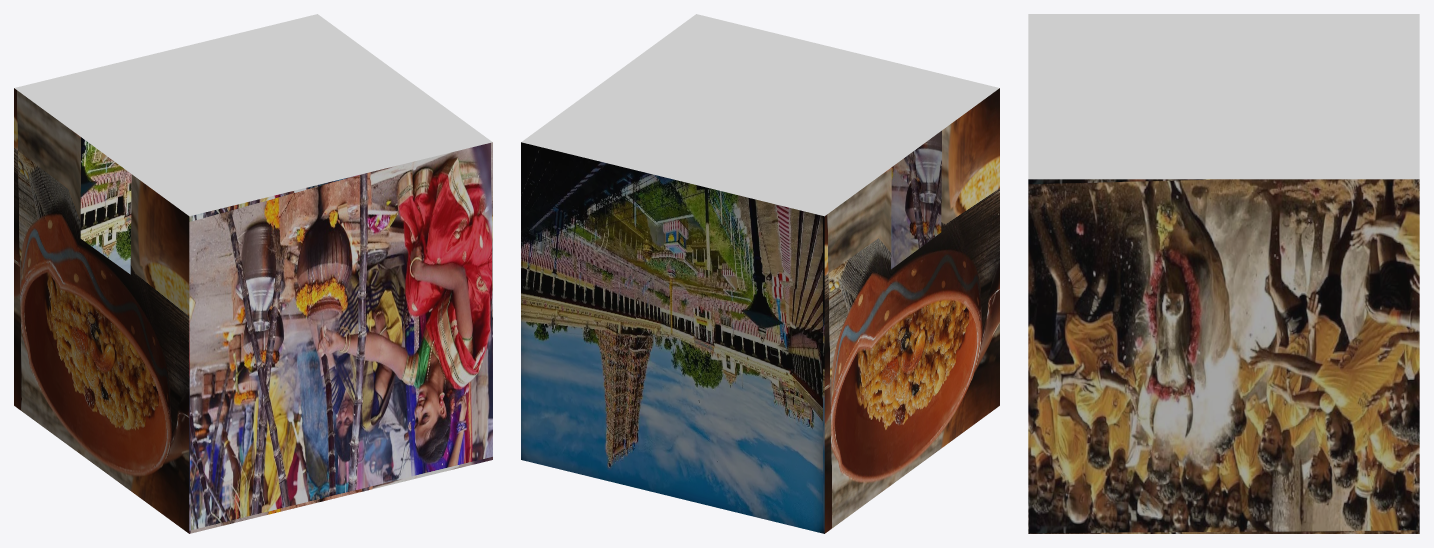
3 views of the same model, side by side, from view 1: azimuth 30°, elevation 25°; view 2: azimuth 150°, elevation 25°; view 3: azimuth 270°, elevation 25° (orthographic). The views are drawn at different scales.
Visible parts, largest first — view 1: Cube.003, Cube, Cube.005, Cube.002; view 2: Cube.002, Cube, Cube.005, Cube.003; view 3: Cube.004, Cube.
Part boxes in pixels (left/top/right/bottom): Cube.003: left=189, top=142, right=492, bottom=533; Cube: left=14, top=14, right=492, bottom=216; Cube.005: left=14, top=88, right=189, bottom=533; Cube.002: left=80, top=137, right=131, bottom=274; Cube.002: left=521, top=142, right=824, bottom=533; Cube: left=521, top=14, right=999, bottom=216; Cube.005: left=824, top=88, right=999, bottom=533; Cube.003: left=891, top=130, right=941, bottom=269; Cube.004: left=1028, top=179, right=1419, bottom=533; Cube: left=1028, top=14, right=1419, bottom=179.
Size of the model in its own units: 94.76 by 94.76 by 94.76.
Materials: 5 (4 with a texture image).
